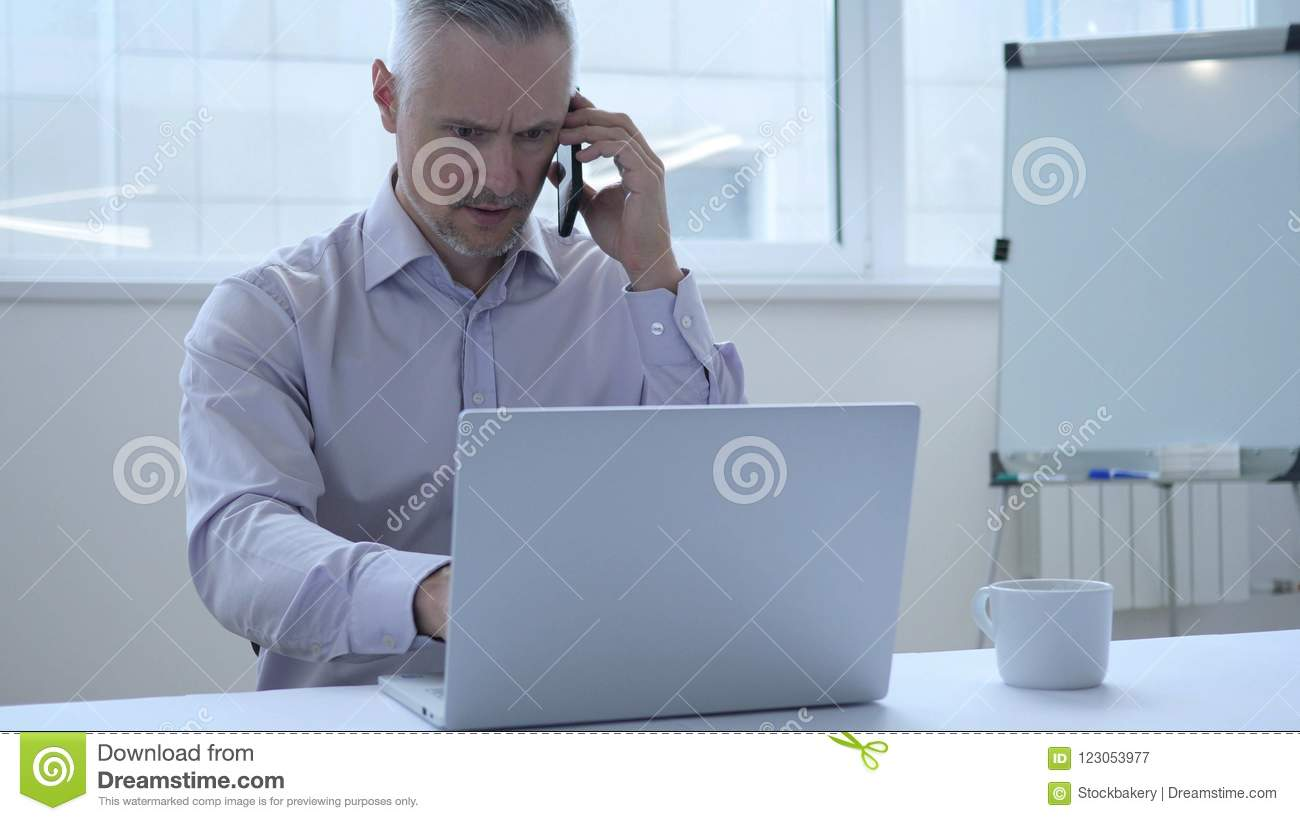phone: (552, 86, 595, 246)
talk: (432, 81, 672, 290)
